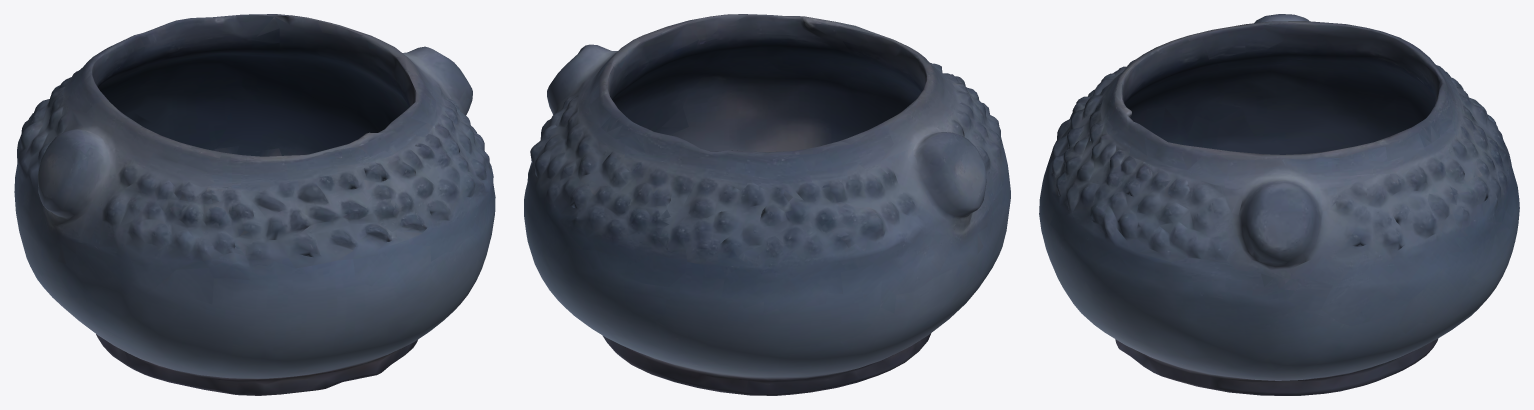
The model's file is pottery.glb.
3 renders of one model, left to right at view 1: azimuth 30°, elevation 25°; view 2: azimuth 150°, elevation 25°; view 3: azimuth 270°, elevation 25°, orthographic. The views are drawn at different scales.
Visible parts, largest first — view 1: node_0; view 2: node_0; view 3: node_0.
Part boxes in pixels (x1,y1,x2,y2): node_0: [14, 14, 495, 395]; node_0: [524, 14, 1010, 395]; node_0: [1039, 14, 1519, 395].
Bounding box in the file's own units: 1.16 × 0.649 × 1.16.
1 material, 1 textured.
